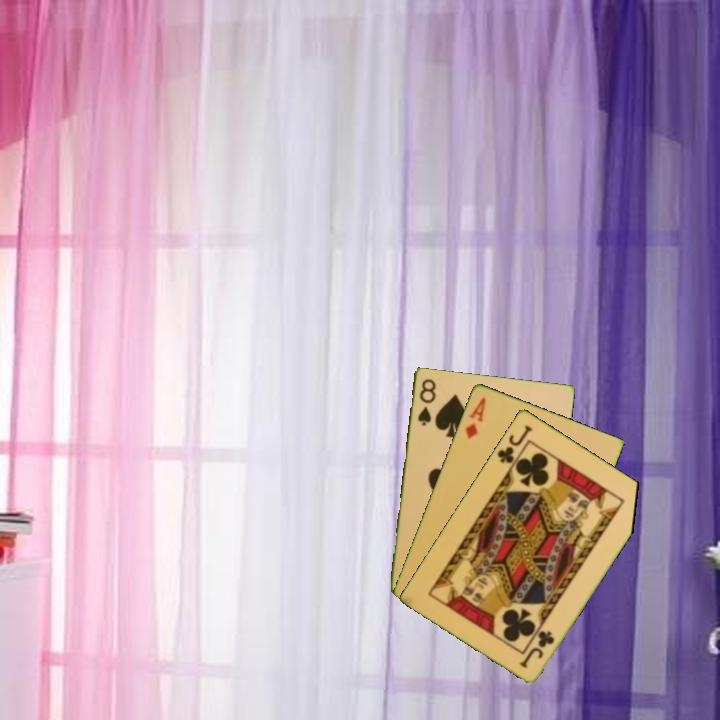8s: (414, 375, 439, 428)
Ad: (461, 393, 489, 441)
Jc: (493, 421, 535, 472), (516, 627, 557, 670)
